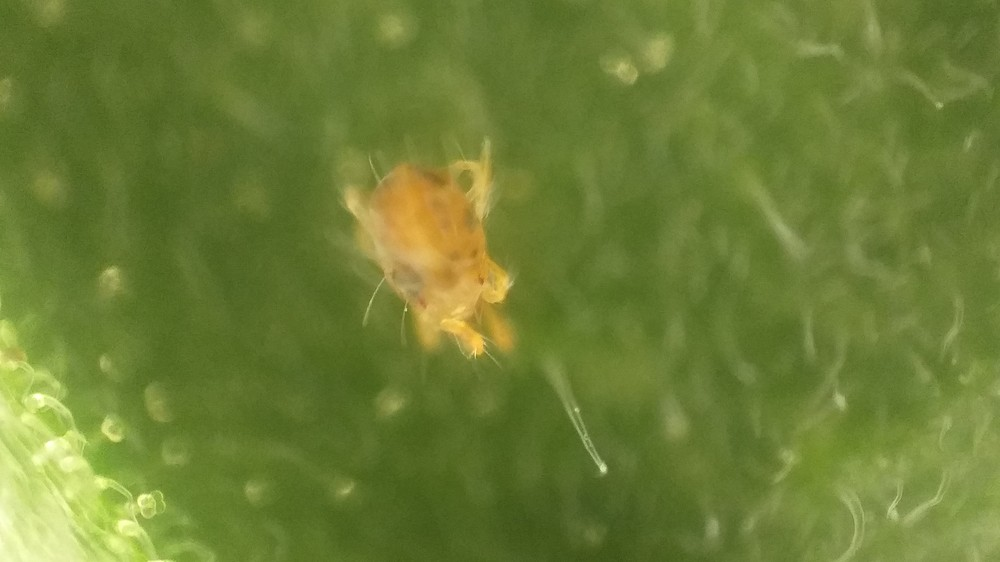Aracnido Rojo: (330, 128, 556, 390)
